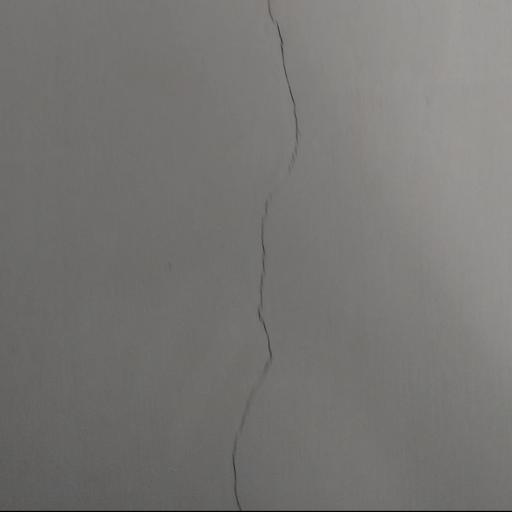minor_crack: (231, 0, 311, 512)
